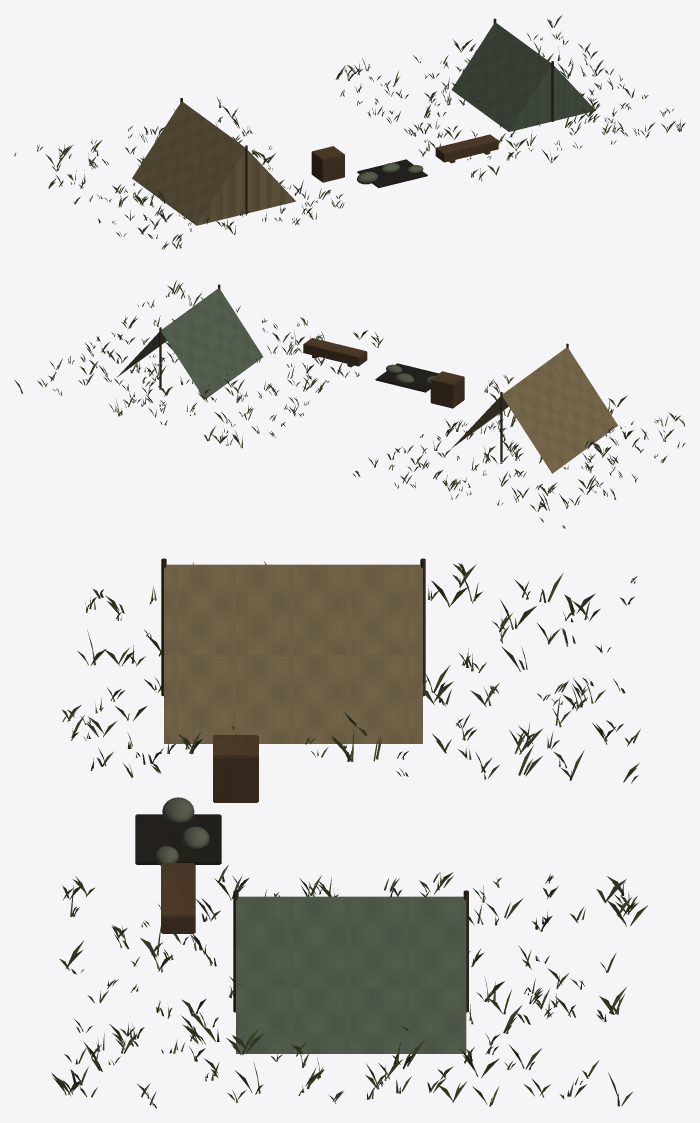
File: camp-v1.glb
3 views of the same model, one above another, from view 1: azimuth 30°, elevation 25°; view 2: azimuth 150°, elevation 25°; view 3: azimuth 270°, elevation 25° (orthographic). The views are drawn at different scales.
Parts seen in each view (by area): view 1: Tent fly, Tent fly.001, Grass blades, Supply crate, Camp bench, Cold firepit, Verge boulder; view 2: Tent fly, Grass blades, Tent fly.001, Supply crate, Camp bench, Cold firepit; view 3: Tent fly, Tent fly.001, Grass blades, Cold firepit, Supply crate, Camp bench, Verge boulder, Tent pole.
Boxes of the visible parts, <box> form: Tent fly: <box>132,101,295,225</box>; Tent fly.001: <box>451,22,595,131</box>; Grass blades: <box>14,15,685,249</box>; Supply crate: <box>311,146,344,182</box>; Camp bench: <box>435,134,498,162</box>; Cold firepit: <box>357,159,427,187</box>; Verge boulder: <box>357,163,423,184</box>; Tent fly: <box>451,347,617,473</box>; Grass blades: <box>14,280,685,528</box>; Tent fly.001: <box>116,288,263,399</box>; Supply crate: <box>430,371,464,408</box>; Camp bench: <box>303,338,367,366</box>; Cold firepit: <box>375,363,438,392</box>; Tent fly: <box>164,564,422,743</box>; Tent fly.001: <box>236,896,466,1053</box>; Grass blades: <box>51,561,647,1108</box>; Cold firepit: <box>135,814,221,864</box>; Supply crate: <box>213,735,258,802</box>; Camp bench: <box>161,863,195,933</box>; Verge boulder: <box>154,797,209,865</box>; Tent pole: <box>161,558,425,696</box>.
Size of what is drawn, in the model's own units: 22.22 by 2.7 by 10.38.
Materials: 10 (10 with a texture image).
